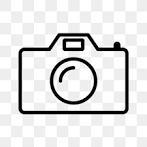camera: (17, 32, 130, 114)
